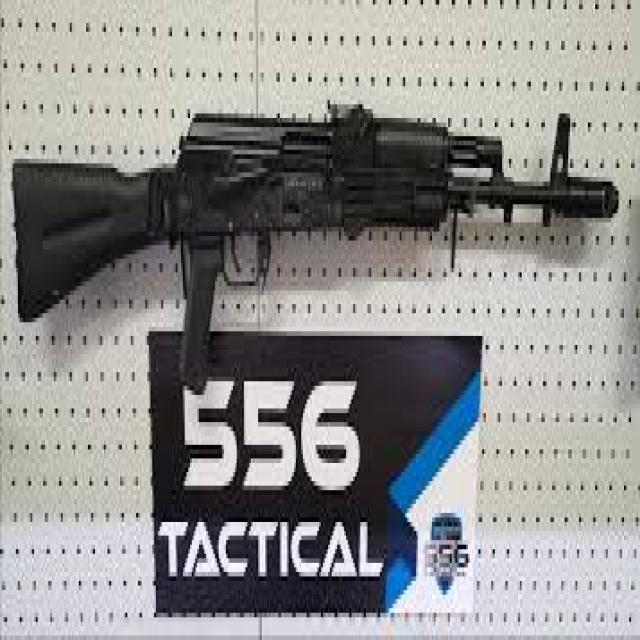weapon: (10, 100, 617, 400)
